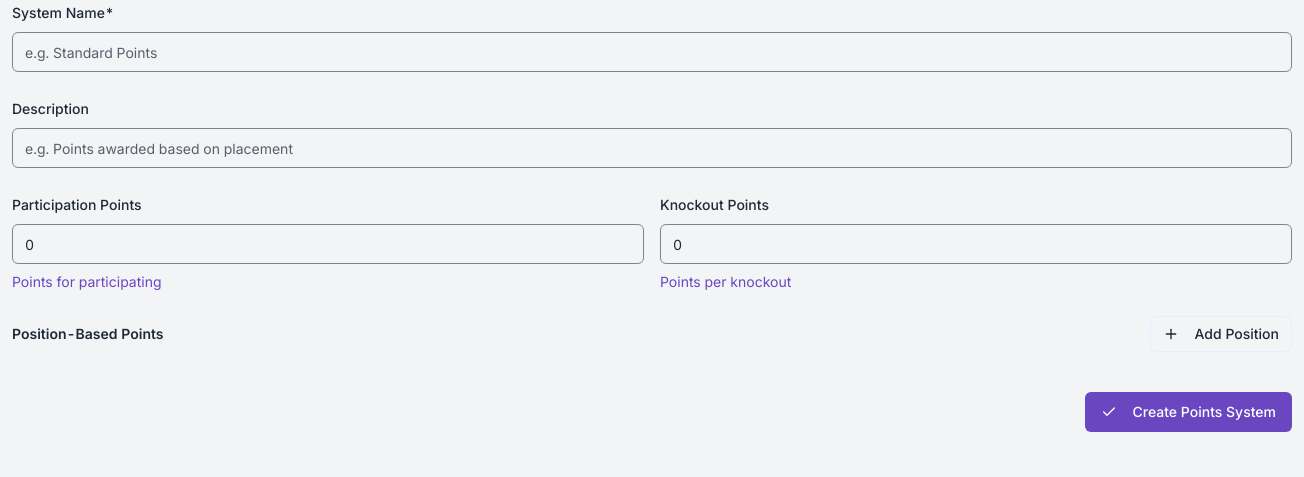
Test: PointsSystemForm › types whole numbers into text boxes, and says so when a box holds something else (P3REV2-CQ-03)
In the field labelled "System Name*": (652, 52) [12, 32, 1292, 72], type "Season"
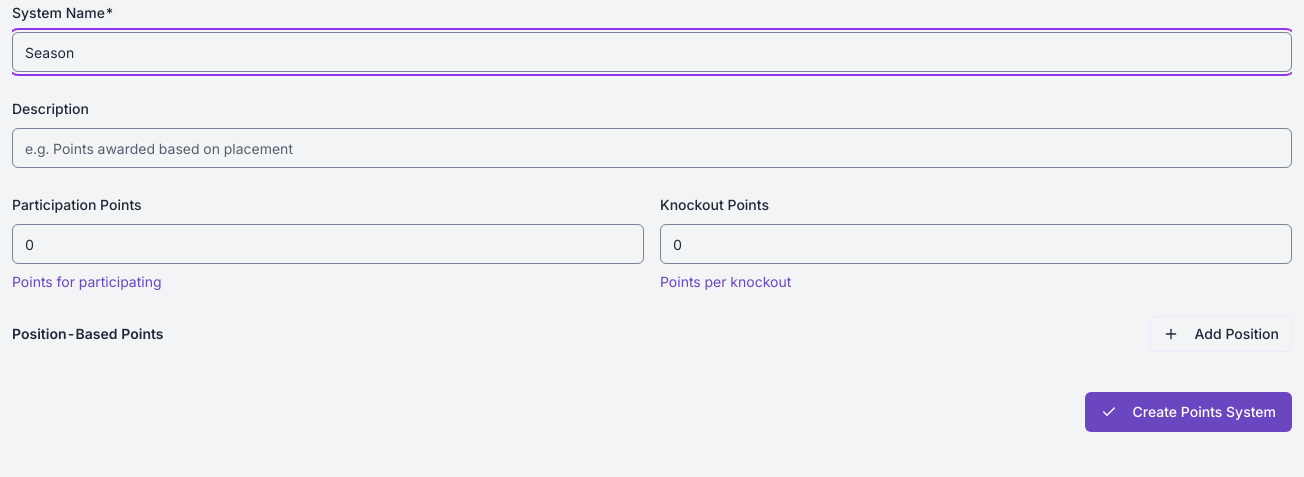
In the field labelled "Knockout Points": (976, 244) [660, 224, 1292, 264], type "two"
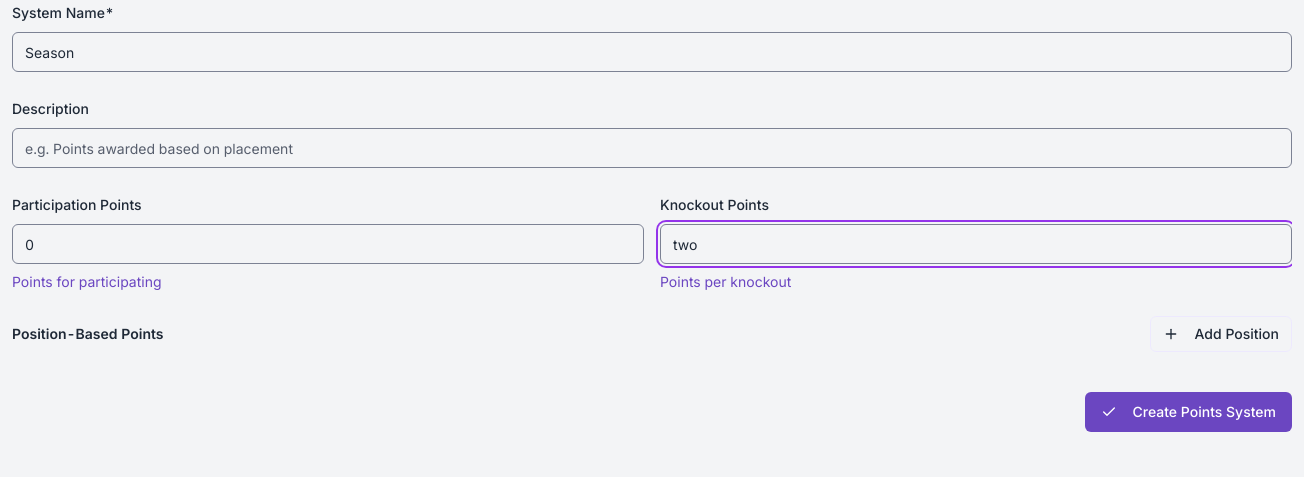
Click the button "Create Points System": (1188, 412) [1084, 392, 1292, 432]
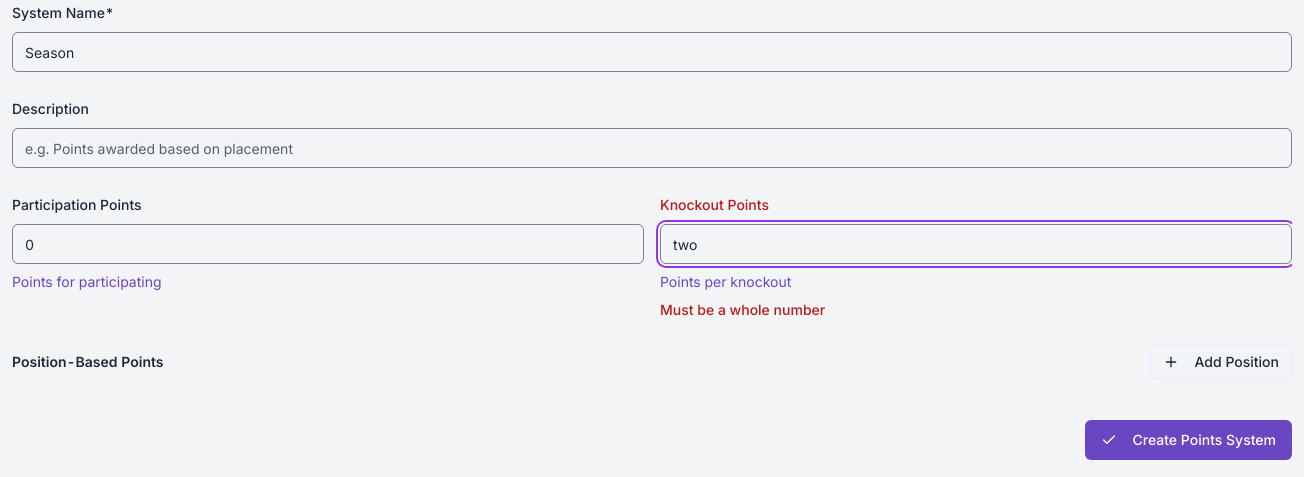
Expected: the text "Must be a whole number" is shown, [660, 301, 825, 318]
